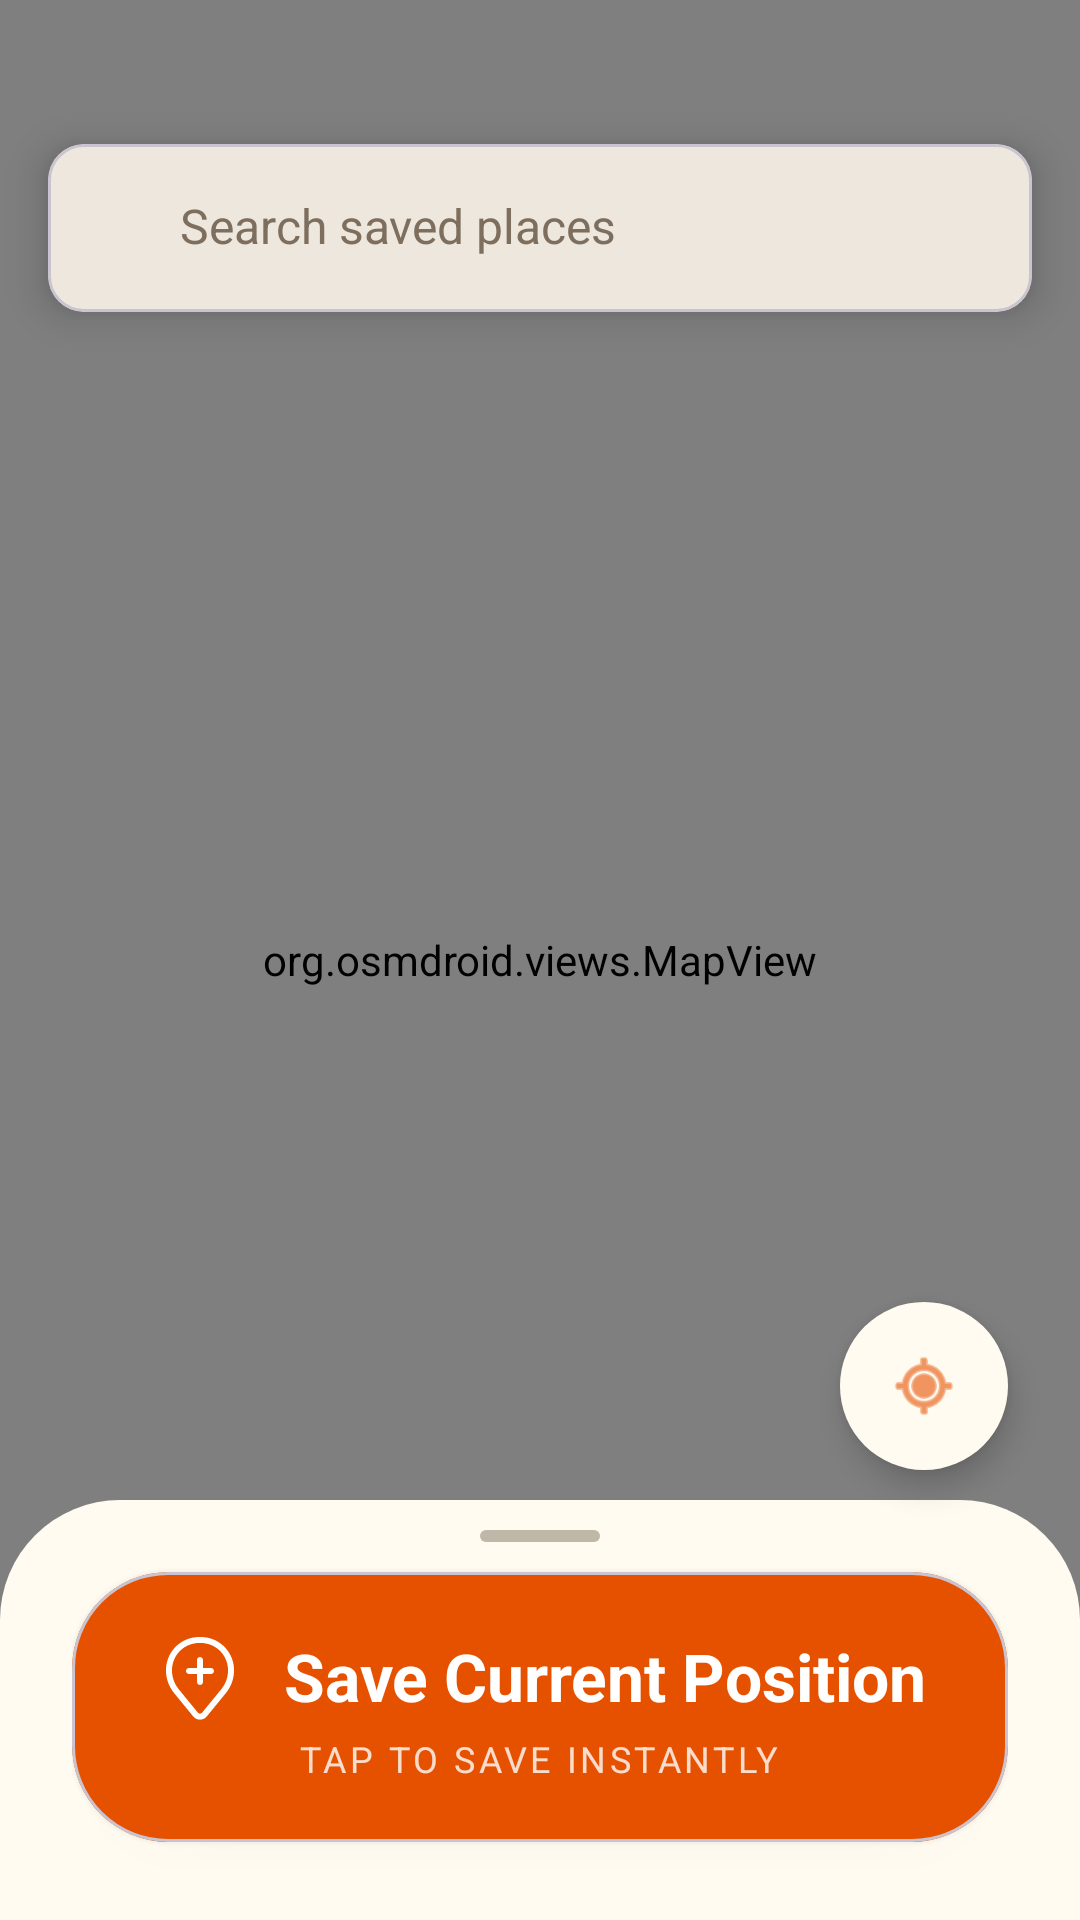

Point at icon controls on the screen. Image size 1080 x 1920, points as (x=x, y=y).
location plus: (x=200, y=1678)
